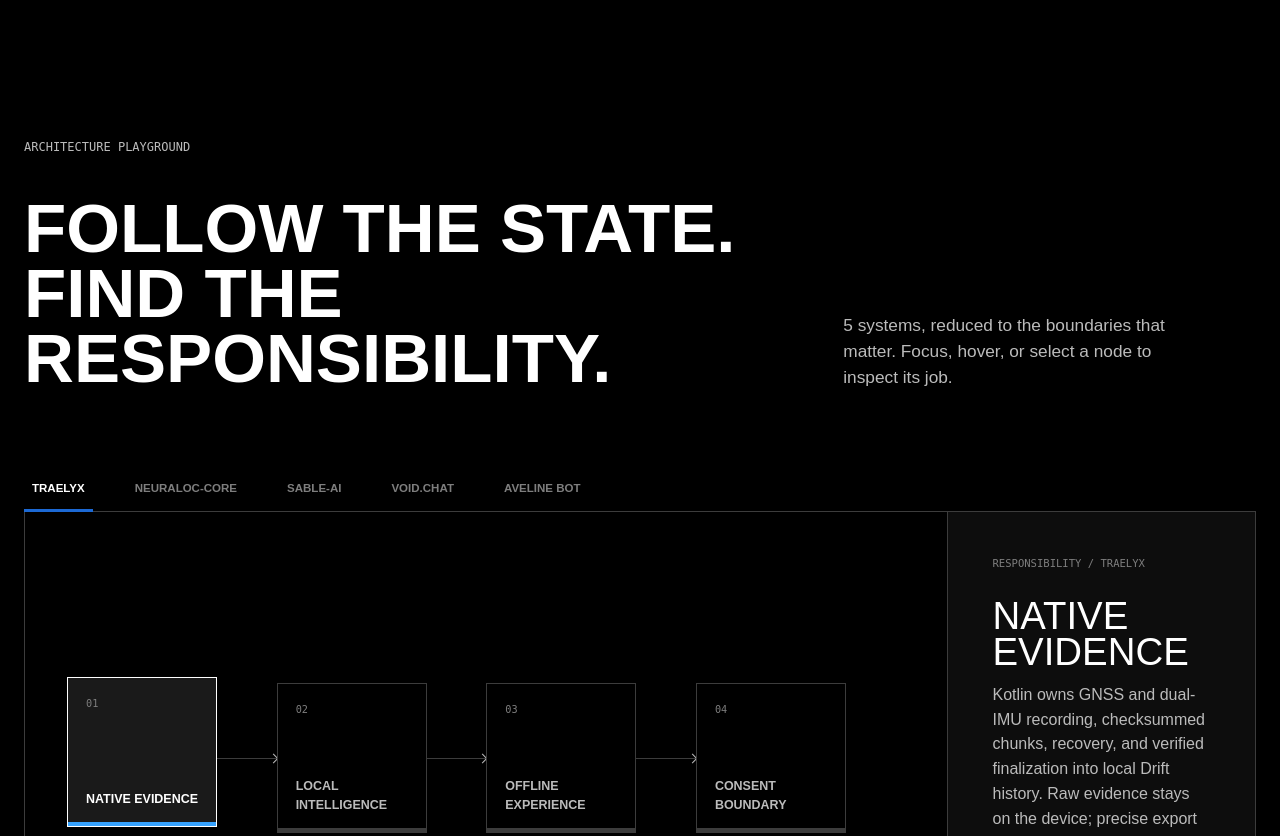
ArchitecturePlayground › updates the explanation when a node is selected
The width and height of the screenshot is (1280, 836).
Click the button "02 Local intelligence": (352, 758) x1=277 y1=684 x2=427 y2=834
(page scrolled)
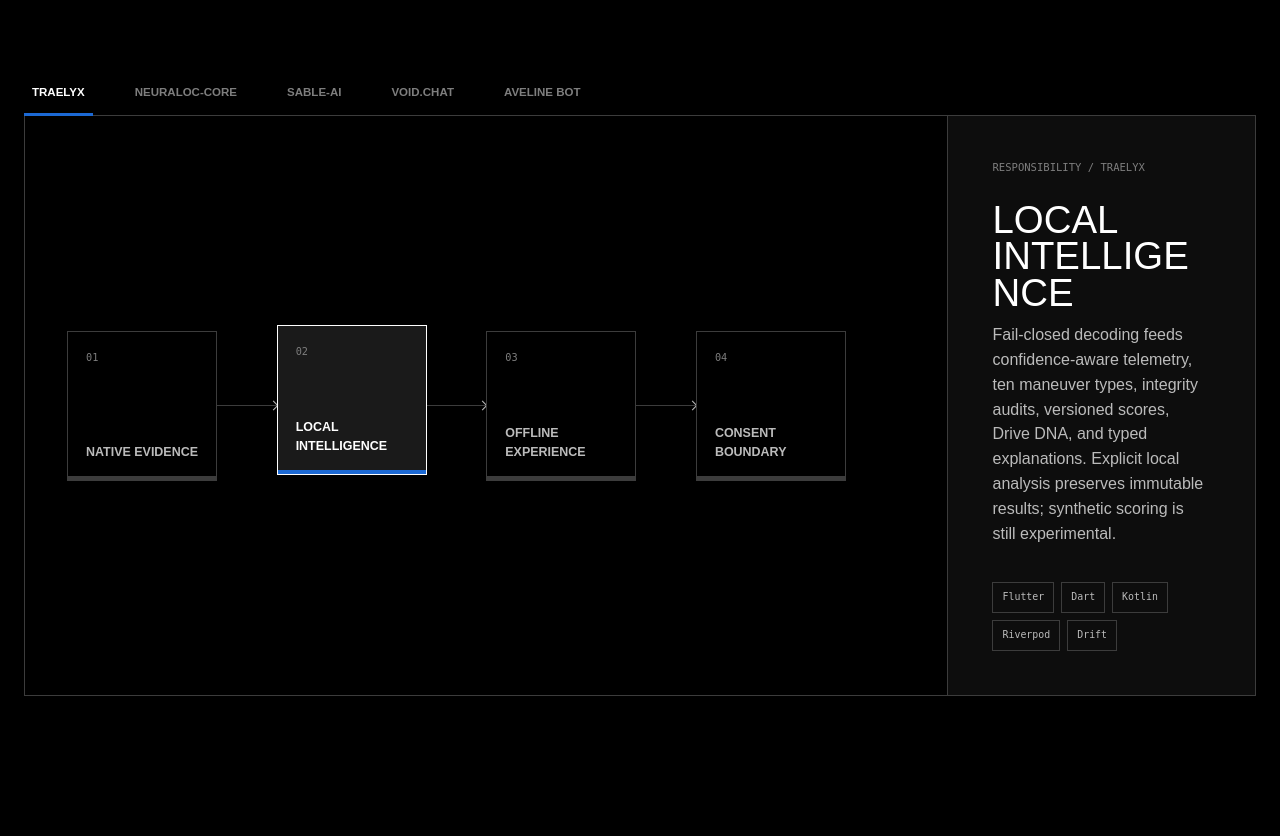
Check: the heading "Local intelligence" is shown, box x1=992 y1=202 x2=1211 y2=311
Check: the text "synthetic scoring is still experimental" is shown, box x1=992 y1=326 x2=1203 y2=542
